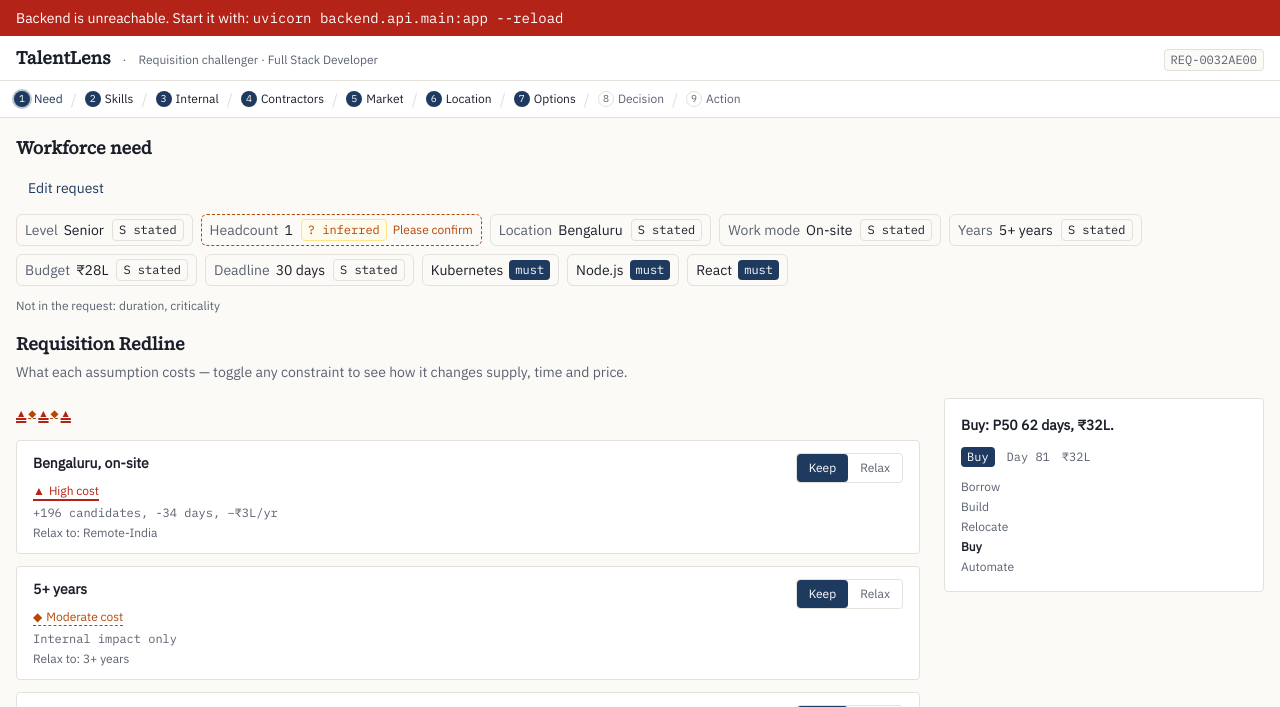
Test: Step navigation › clicking a workflow step shows only that step content
Click the button "3 Internal". click: (187, 99)
box: [150,81,225,117]
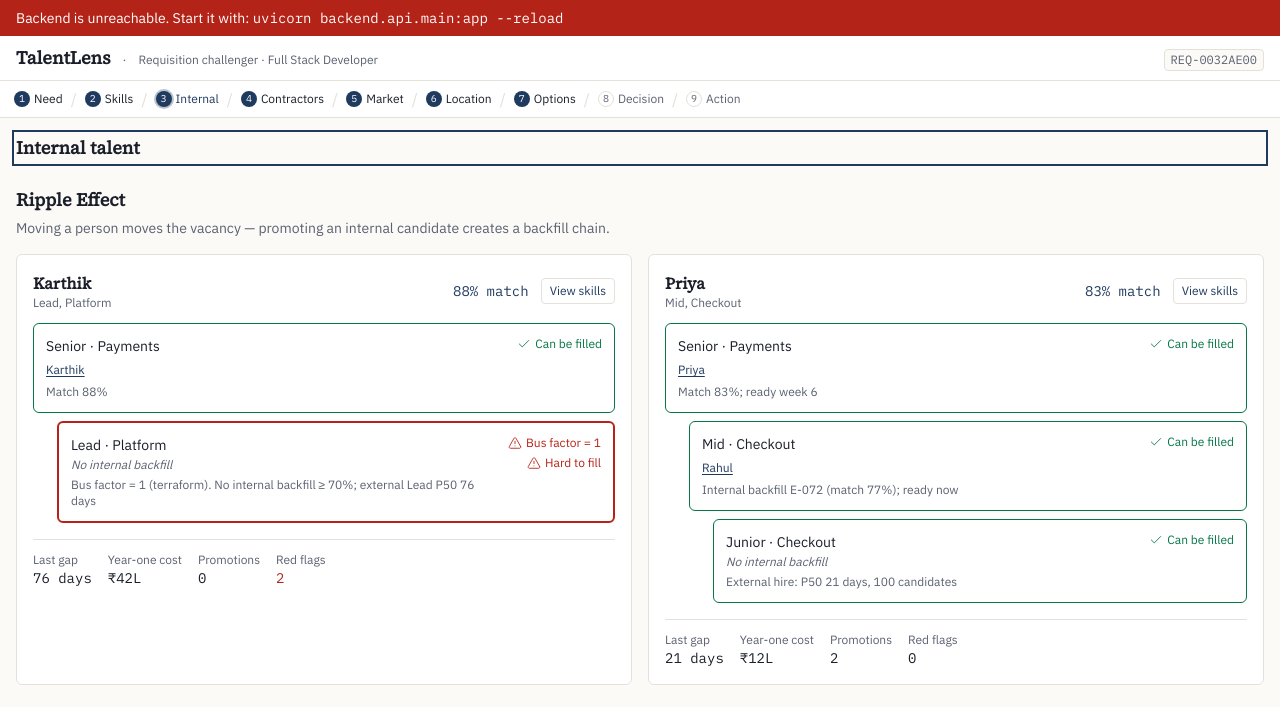
expect the heading "Internal talent" is shown: met, box [16,135,140,160]
expect the heading "Workforce need" is gone: met
